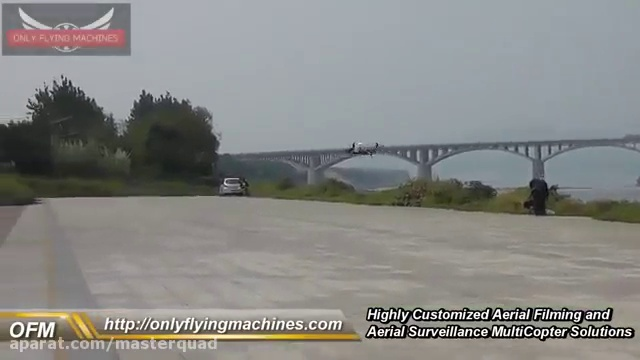drone_other: (341, 137, 385, 158)
